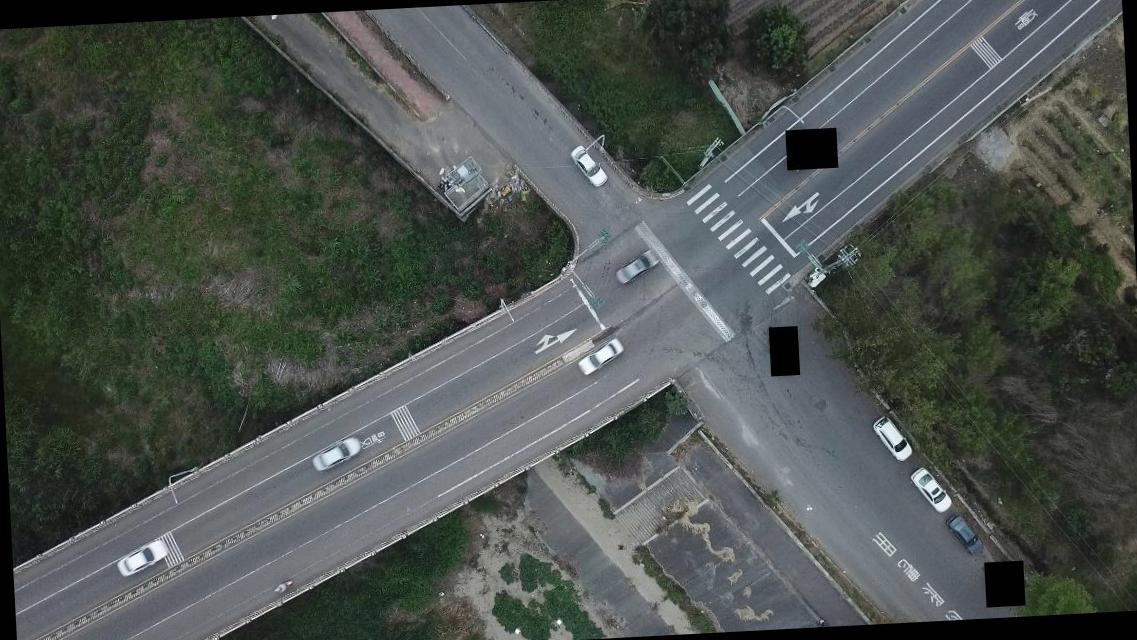vehicle: (114, 537, 170, 579), (908, 464, 951, 514), (310, 435, 362, 475), (874, 413, 914, 461), (568, 142, 607, 189), (615, 248, 660, 286), (576, 340, 626, 374), (948, 514, 986, 556)
